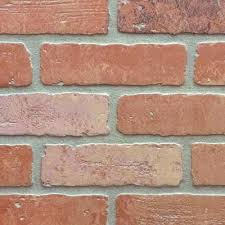brick: (43, 43, 184, 84), (44, 145, 182, 185), (1, 95, 109, 134), (120, 95, 225, 134), (1, 1, 109, 35), (118, 1, 225, 32), (117, 194, 225, 223), (1, 197, 107, 225), (192, 144, 225, 185), (1, 147, 33, 185), (1, 44, 30, 85), (198, 43, 224, 86)
